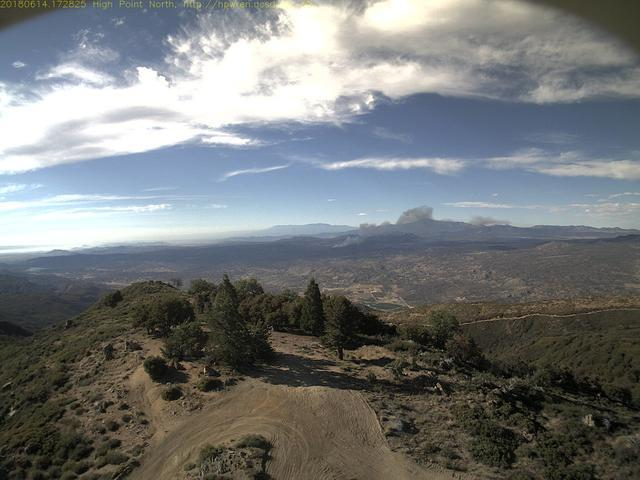smoke: (329, 202, 439, 254)
